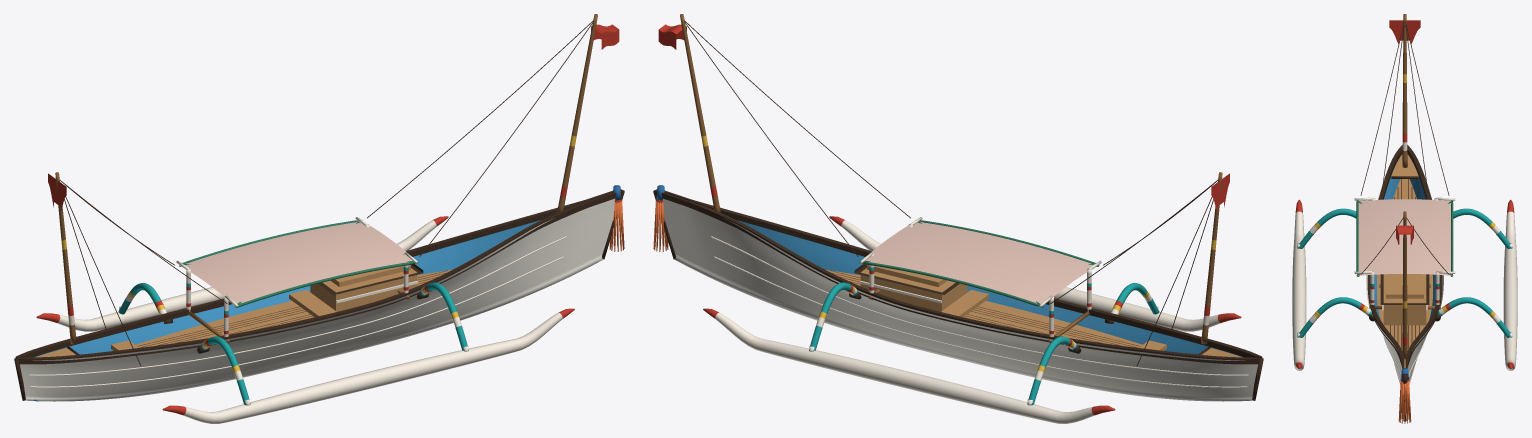
The model's file is boat.glb.
3 renders of one model, left to right at view 1: azimuth 30°, elevation 25°; view 2: azimuth 150°, elevation 25°; view 3: azimuth 270°, elevation 25°, orthographic. The views are drawn at different scales.
Visible parts, largest first — view 1: PRP_boat_cadik_hull, PRP_boat_cadik_canopy, PRP_boat_cadik_float-port, PRP_boat_cadik_hull-inner, PRP_boat_cadik_gunwale-port, PRP_boat_cadik_gunwale-starboard, PRP_boat_cadik_deck, PRP_boat_cadik_float-starboard, PRP_boat_cadik_cabin, PRP_boat_cadik_canopy-trim, PRP_boat_cadik_mast, PRP_boat_cadik_plank-0.63-port (+7 smaller); view 2: PRP_boat_cadik_hull, PRP_boat_cadik_canopy, PRP_boat_cadik_float-starboard, PRP_boat_cadik_hull-inner, PRP_boat_cadik_gunwale-starboard, PRP_boat_cadik_gunwale-port, PRP_boat_cadik_deck, PRP_boat_cadik_float-port, PRP_boat_cadik_cabin, PRP_boat_cadik_canopy-trim, PRP_boat_cadik_mast, PRP_boat_cadik_plank-0.63-starboard (+7 smaller); view 3: PRP_boat_cadik_canopy, PRP_boat_cadik_float-port, PRP_boat_cadik_float-starboard, PRP_boat_cadik_deck, PRP_boat_cadik_cabin, PRP_boat_cadik_gunwale-port, PRP_boat_cadik_gunwale-starboard, PRP_boat_cadik_cabin-bench, PRP_boat_cadik_hull, PRP_boat_cadik_mast2, PRP_boat_cadik_hull-inner, PRP_boat_cadik_mast (+13 smaller).
Boxes of the visible parts, x1=… form: PRP_boat_cadik_hull: x1=20, y1=198, x2=615, y2=401; PRP_boat_cadik_canopy: x1=180, y1=221, x2=412, y2=306; PRP_boat_cadik_float-port: x1=162, y1=308, x2=574, y2=423; PRP_boat_cadik_hull-inner: x1=33, y1=220, x2=540, y2=401; PRP_boat_cadik_gunwale-port: x1=17, y1=190, x2=623, y2=364; PRP_boat_cadik_gunwale-starboard: x1=15, y1=189, x2=621, y2=358; PRP_boat_cadik_deck: x1=135, y1=270, x2=451, y2=347; PRP_boat_cadik_float-starboard: x1=36, y1=216, x2=448, y2=331; PRP_boat_cadik_cabin: x1=310, y1=268, x2=417, y2=311; PRP_boat_cadik_canopy-trim: x1=179, y1=220, x2=418, y2=307; PRP_boat_cadik_mast: x1=557, y1=14, x2=597, y2=212; PRP_boat_cadik_plank-0.63-port: x1=29, y1=236, x2=566, y2=375; PRP_boat_cadik_hull: x1=662, y1=198, x2=1257, y2=401; PRP_boat_cadik_canopy: x1=865, y1=221, x2=1097, y2=306; PRP_boat_cadik_float-starboard: x1=703, y1=308, x2=1115, y2=423; PRP_boat_cadik_hull-inner: x1=737, y1=220, x2=1243, y2=357; PRP_boat_cadik_gunwale-starboard: x1=654, y1=190, x2=1260, y2=364; PRP_boat_cadik_gunwale-port: x1=656, y1=189, x2=1262, y2=358; PRP_boat_cadik_deck: x1=826, y1=270, x2=1142, y2=347; PRP_boat_cadik_float-port: x1=829, y1=216, x2=1241, y2=331; PRP_boat_cadik_cabin: x1=860, y1=268, x2=967, y2=311; PRP_boat_cadik_canopy-trim: x1=859, y1=220, x2=1099, y2=307; PRP_boat_cadik_mast: x1=680, y1=14, x2=720, y2=212; PRP_boat_cadik_plank-0.63-starboard: x1=711, y1=236, x2=1248, y2=375; PRP_boat_cadik_canopy: x1=1357, y1=199, x2=1452, y2=275; PRP_boat_cadik_float-port: x1=1292, y1=199, x2=1306, y2=370; PRP_boat_cadik_float-starboard: x1=1503, y1=199, x2=1517, y2=370; PRP_boat_cadik_deck: x1=1377, y1=179, x2=1432, y2=367; PRP_boat_cadik_cabin: x1=1383, y1=274, x2=1426, y2=325; PRP_boat_cadik_gunwale-port: x1=1367, y1=145, x2=1404, y2=378; PRP_boat_cadik_gunwale-starboard: x1=1405, y1=145, x2=1442, y2=378; PRP_boat_cadik_cabin-bench: x1=1386, y1=274, x2=1423, y2=298; PRP_boat_cadik_hull: x1=1366, y1=172, x2=1443, y2=382; PRP_boat_cadik_mast2: x1=1402, y1=14, x2=1407, y2=167; PRP_boat_cadik_hull-inner: x1=1374, y1=156, x2=1435, y2=319; PRP_boat_cadik_mast: x1=1402, y1=211, x2=1407, y2=359.
Size of the model in its own units: 7.49 by 3.24 by 2.86.
